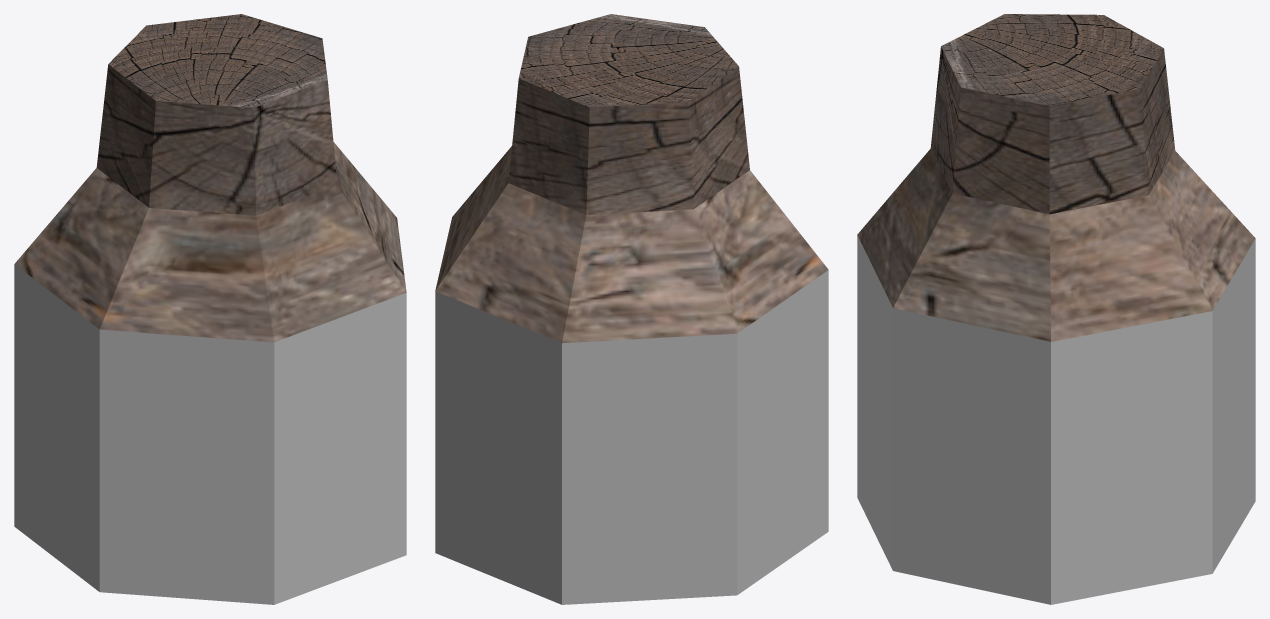
Rendered from Potion_1.fbx.
3 views of the same model, side by side, from view 1: azimuth 30°, elevation 25°; view 2: azimuth 150°, elevation 25°; view 3: azimuth 270°, elevation 25° (orthographic).
Visible parts, largest first — view 1: pCylinder11; view 2: pCylinder11; view 3: pCylinder11.
Boxes of the visible parts, x1=… form: pCylinder11: x1=14, y1=14, x2=406, y2=604; pCylinder11: x1=435, y1=14, x2=828, y2=604; pCylinder11: x1=857, y1=14, x2=1255, y2=604.
Bounding box in the file's own units: 4.71 × 6.15 × 4.81.
